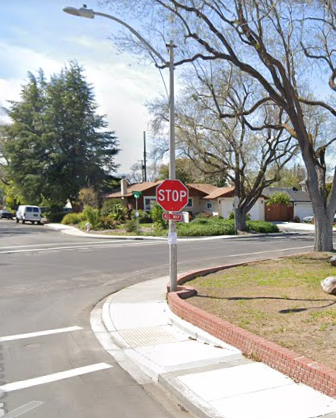stop_sign: (158, 180, 188, 211)
